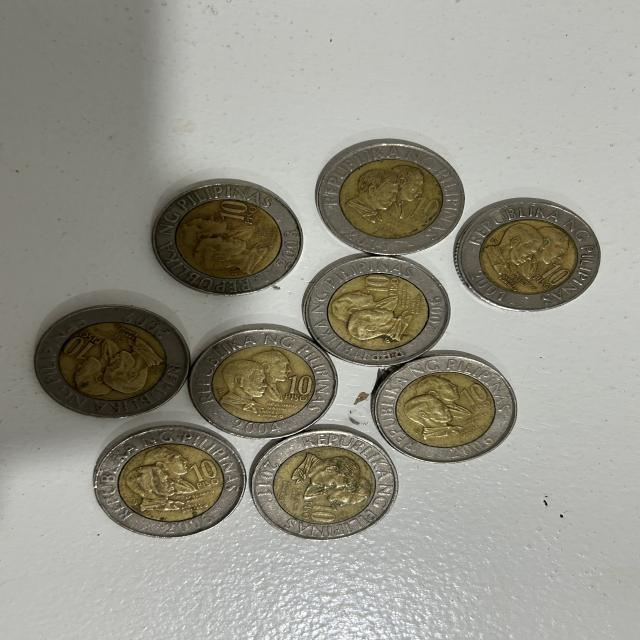10_Old_Front: (272, 363, 319, 408), (455, 377, 498, 417)
